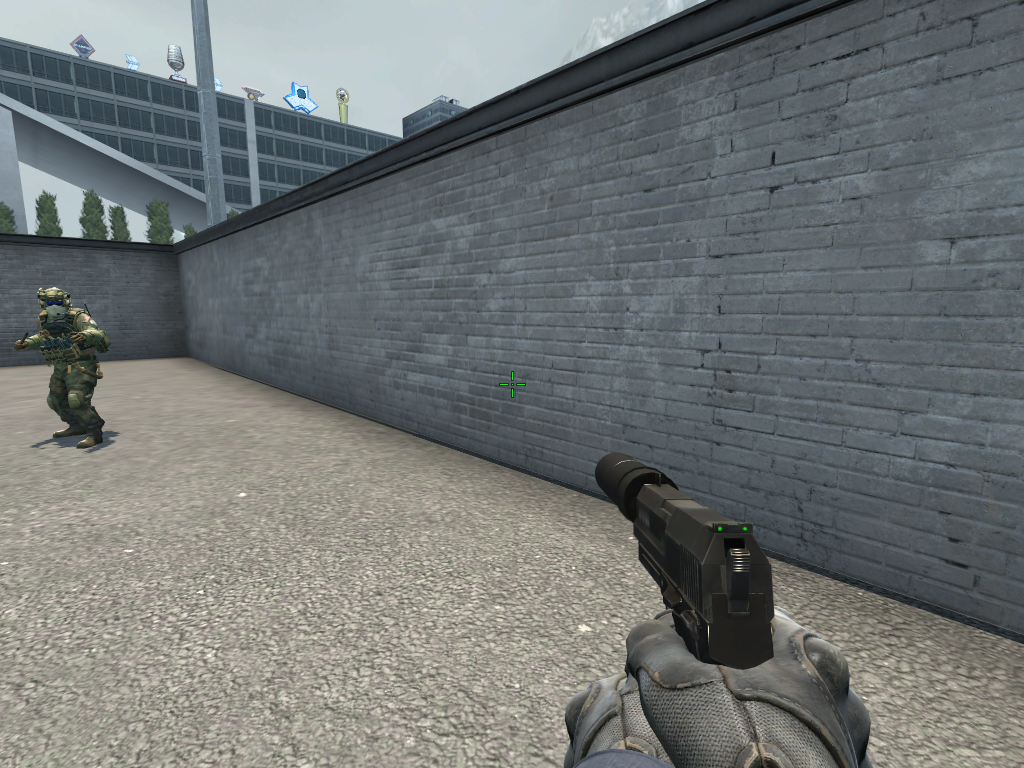ct head: (41, 292, 67, 322)
